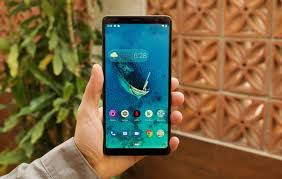lenovo: (100, 12, 175, 157)
